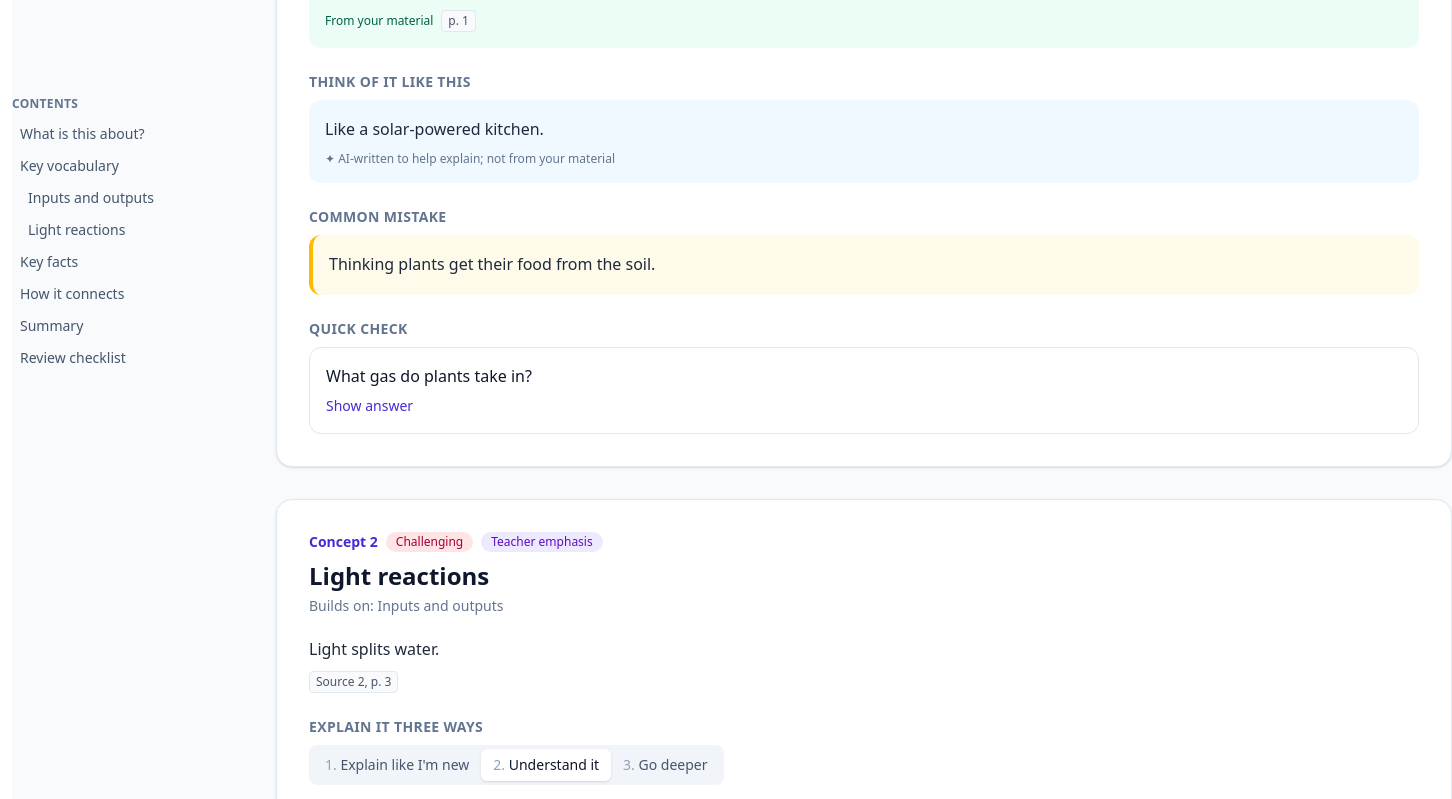
Test: GuideView › hides quick-check answers until asked
(page scrolled)
Expected: the text "Carbon dioxide." is not shown
Click the button "Show answer": click(370, 406) [326,396,413,416]
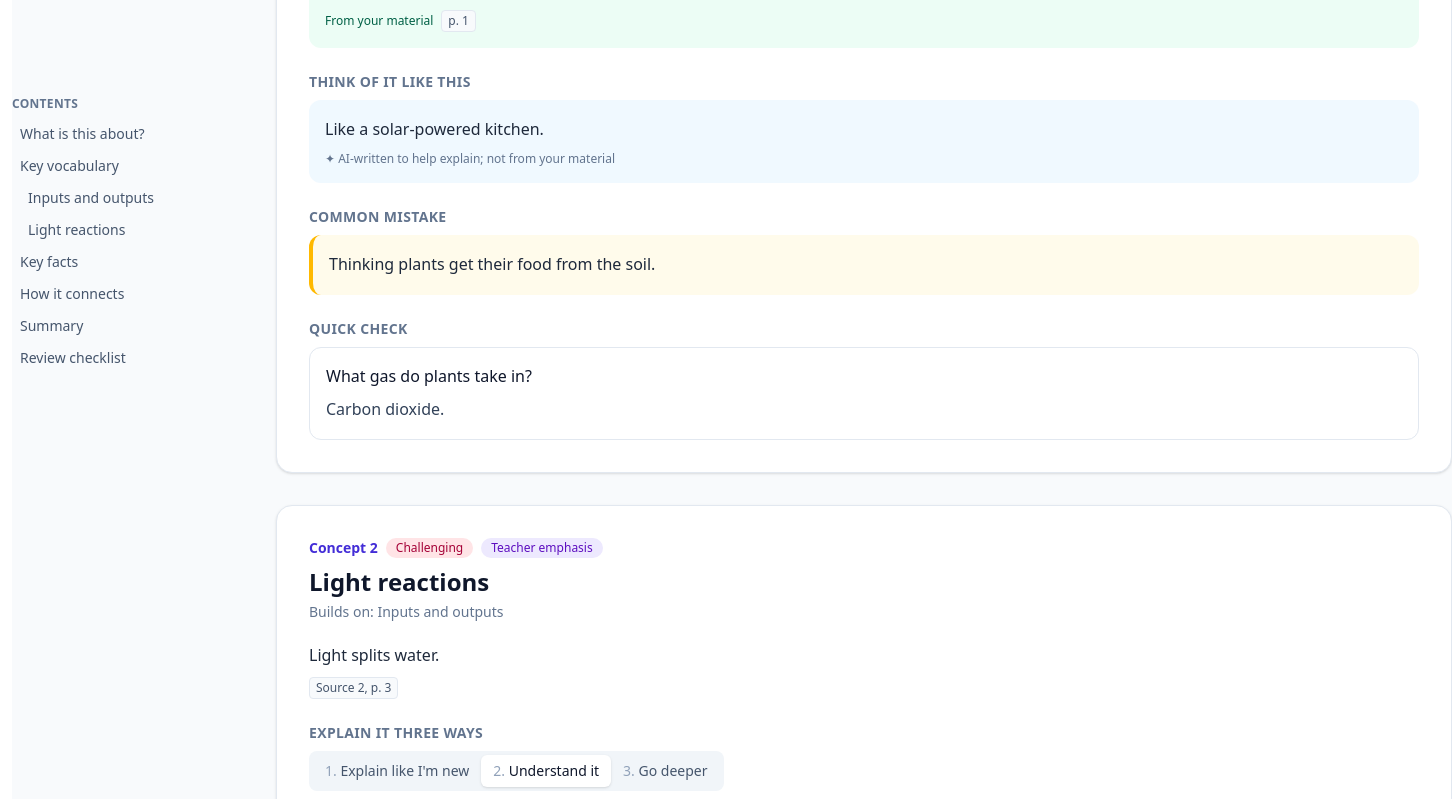
Now the text "Carbon dioxide." is shown, box [326,398,444,420]
